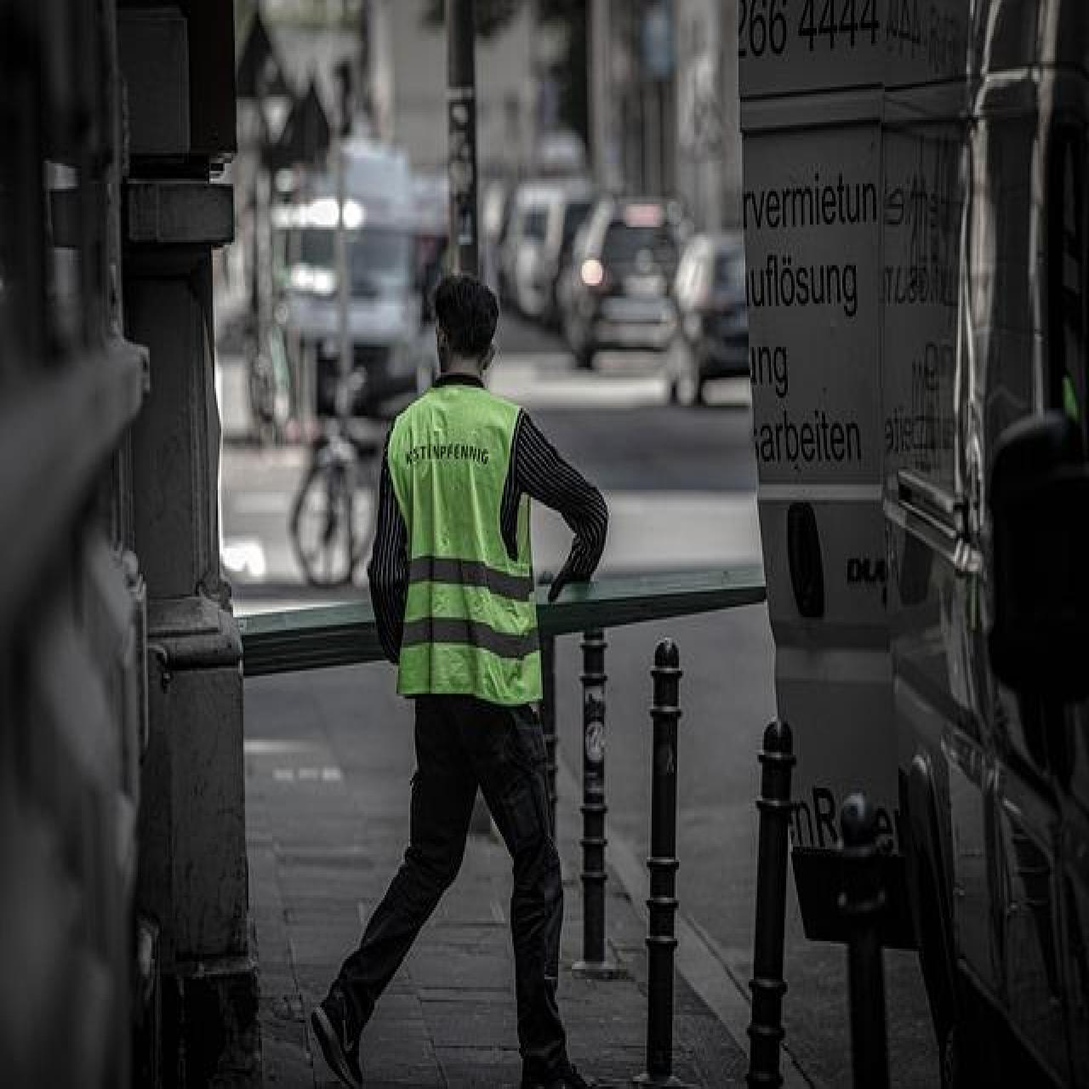Person: (291, 255, 619, 1088)
Safety_Vest: (378, 365, 549, 723)
